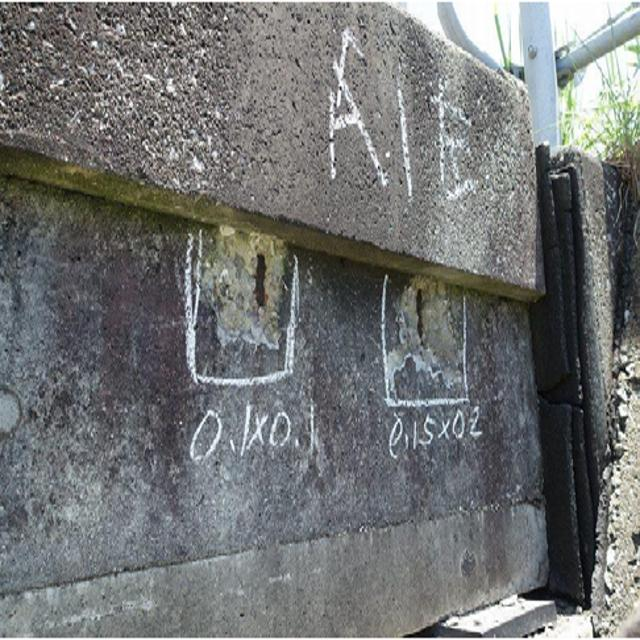spalling: (183, 223, 308, 378), (382, 273, 482, 408)
